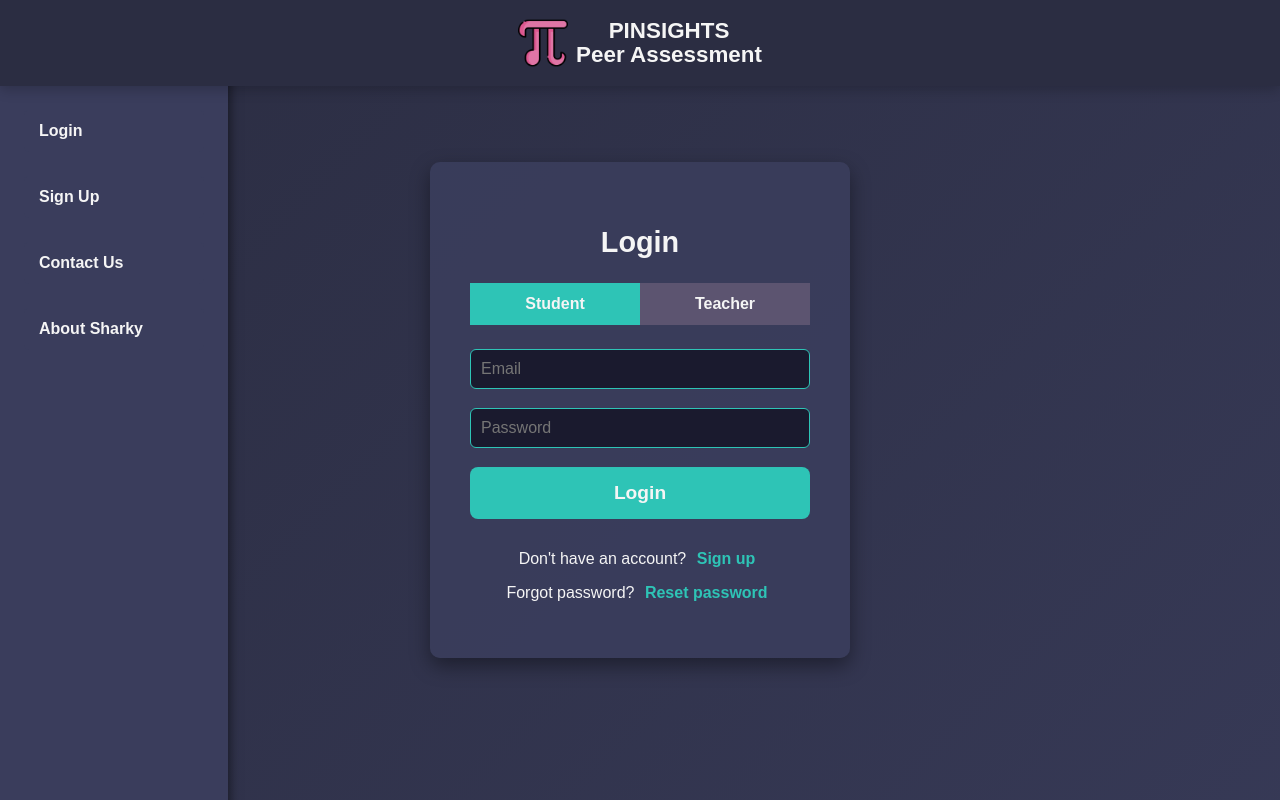
LogIn Component Basic Functionality › displays error if login credentials are incorrect
Type "wronguser@example.com" into the field with placeholder "Email" at {"x": 640, "y": 369}, box [470,349,810,389]
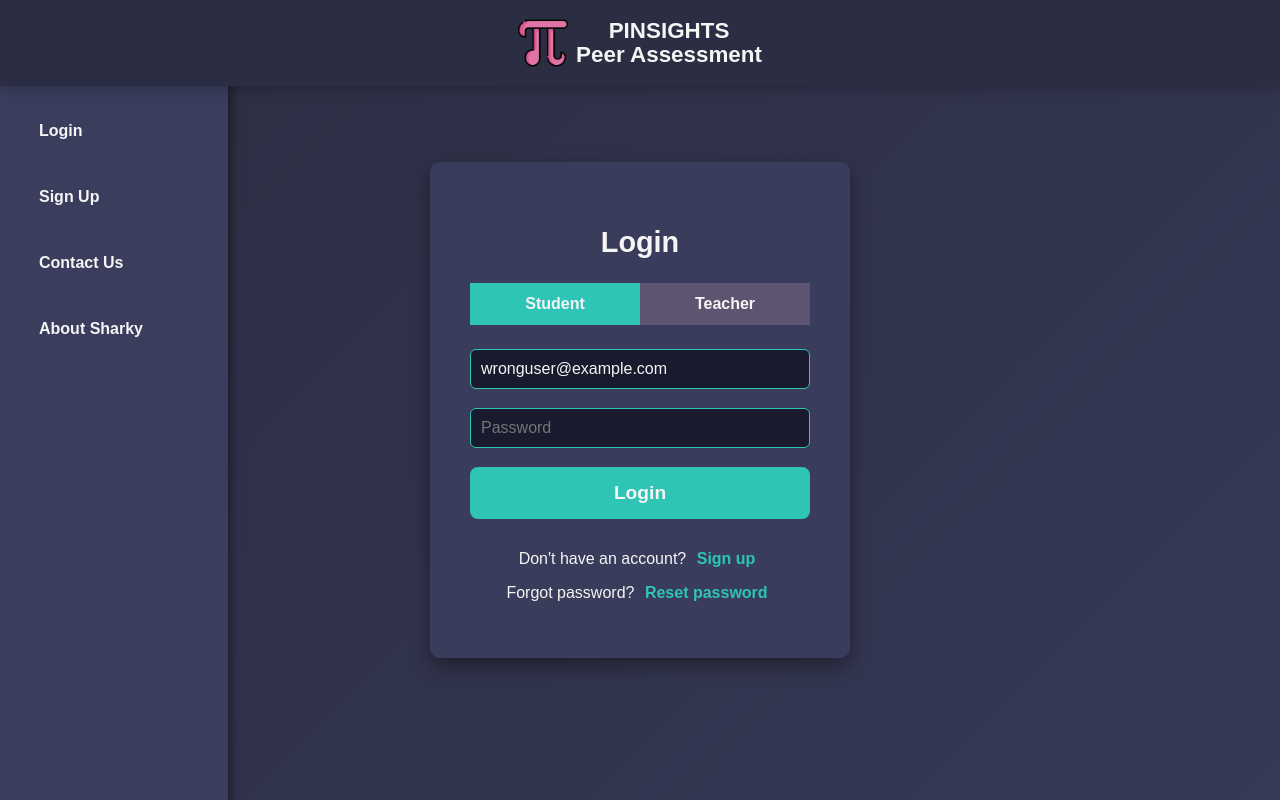
Type "wrongpassword" into the password field with placeholder "Password" at {"x": 640, "y": 428}, box [470,408,810,448]
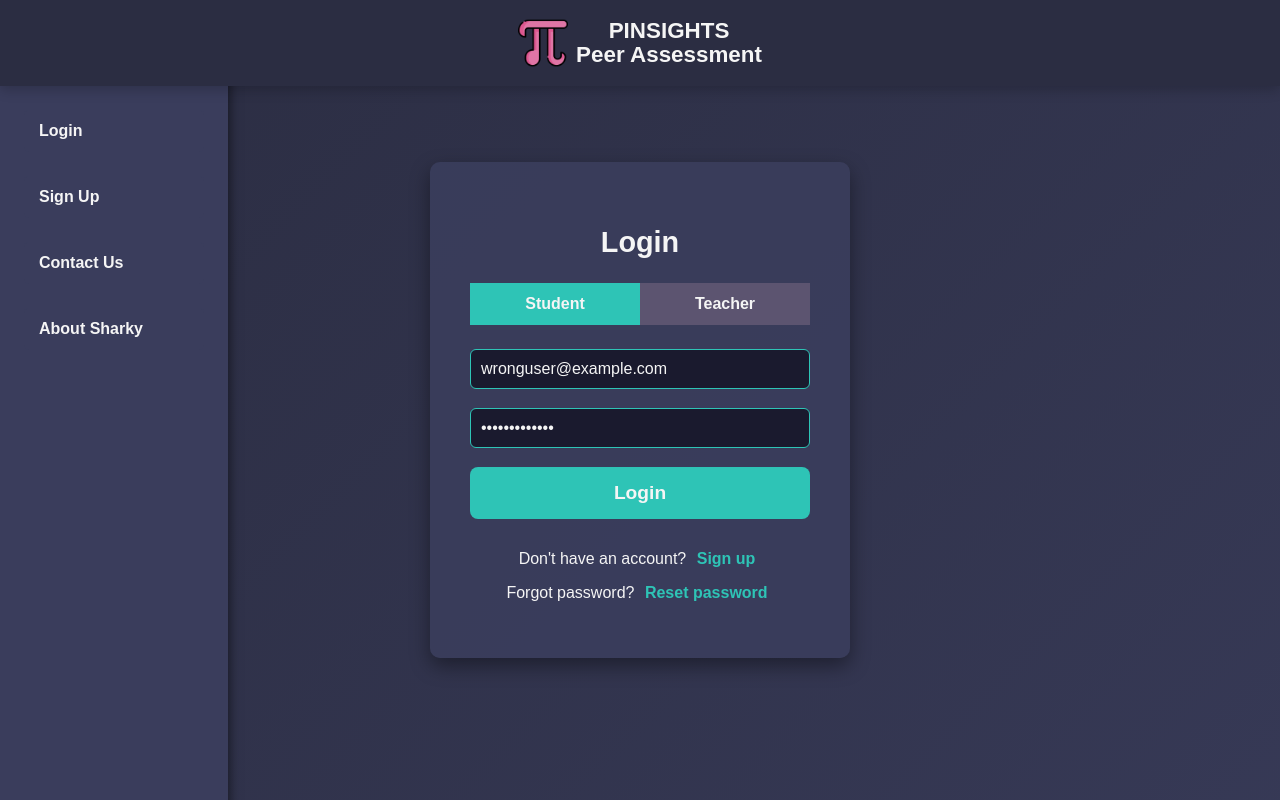
Click the 2nd button "Login" at {"x": 640, "y": 493}, box [470,467,810,519]
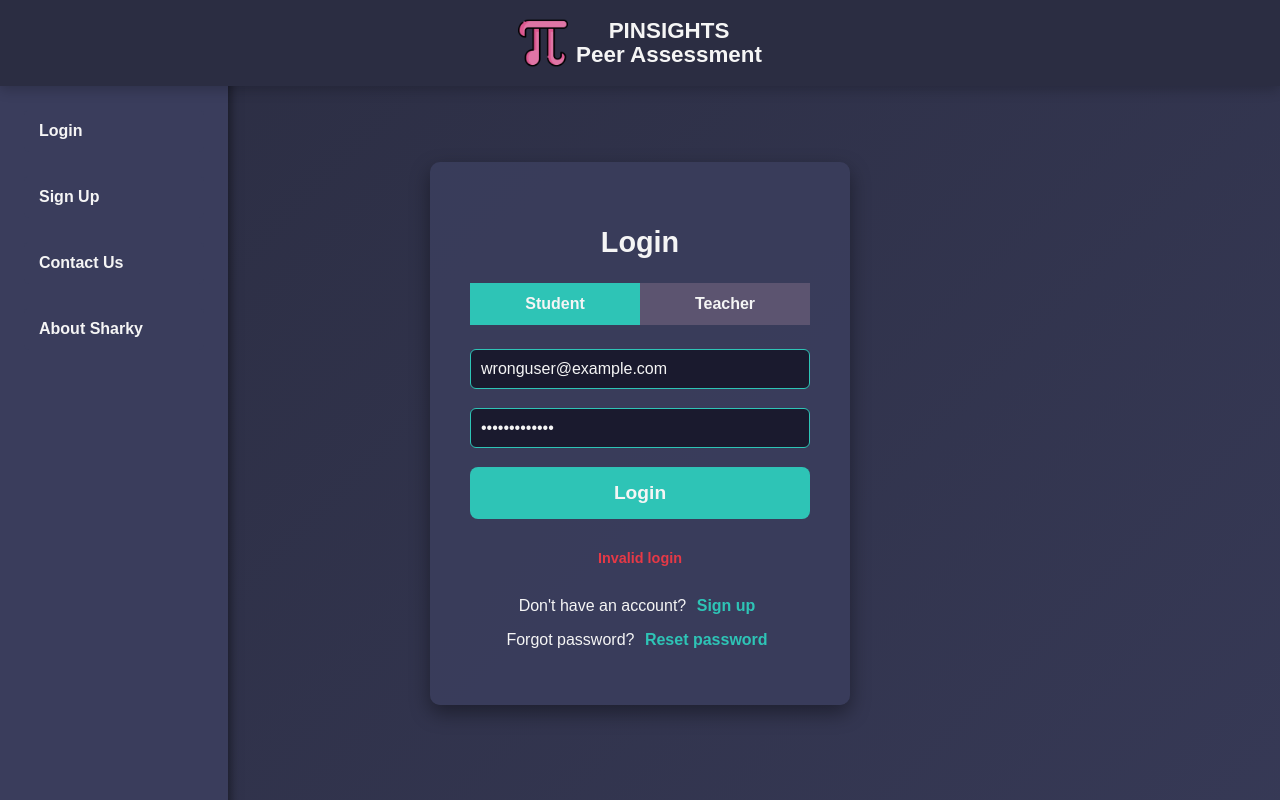
Expected: the text "Invalid login" is shown, [598,550,682,566]
